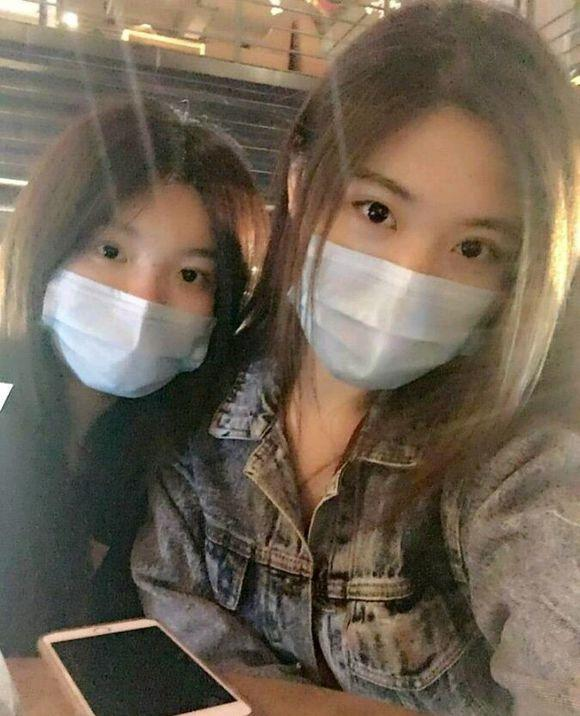OK: (308, 156, 539, 387), (39, 212, 218, 391)
